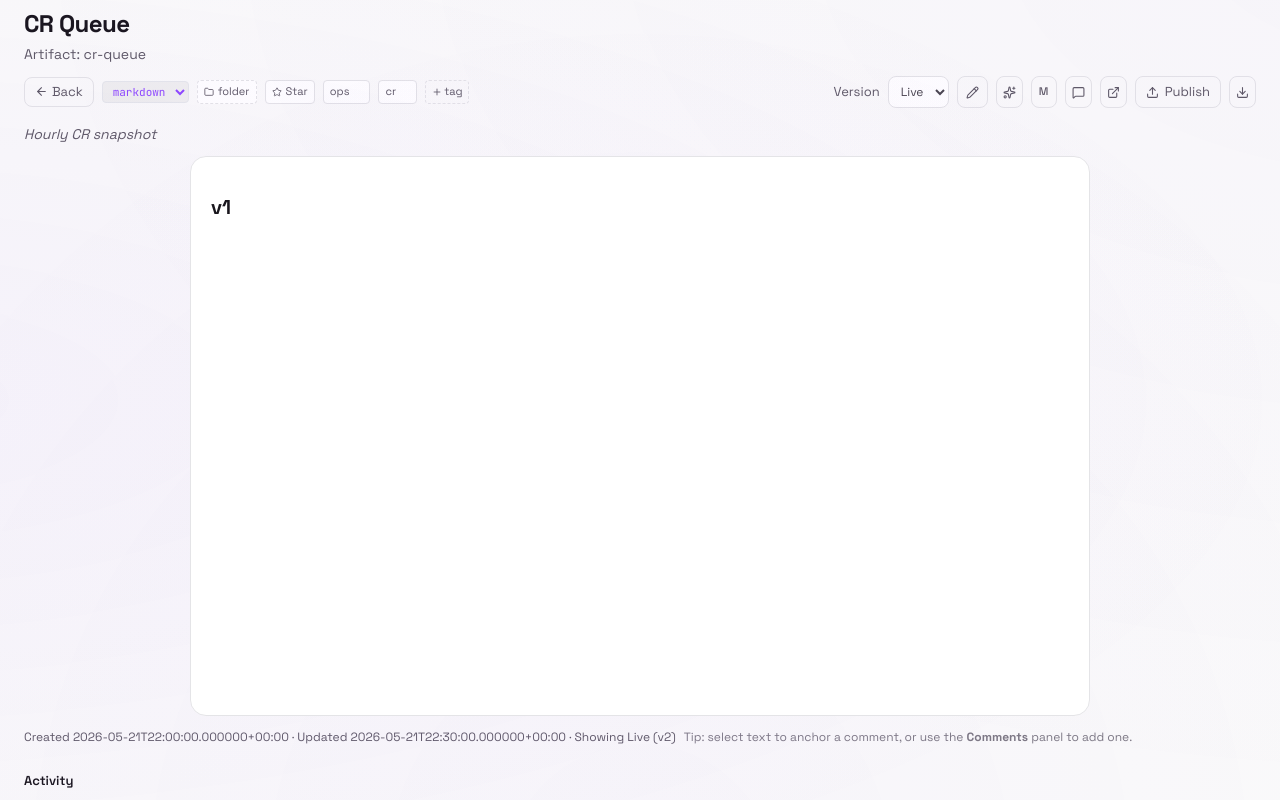
ArtifactDetailPage › Cancel button confirms before discarding while dirty
Expected: the button "CR Queue" is shown, [24,8,151,40]
Click the button titled "Edit content": [972, 92] box [957,76,988,108]
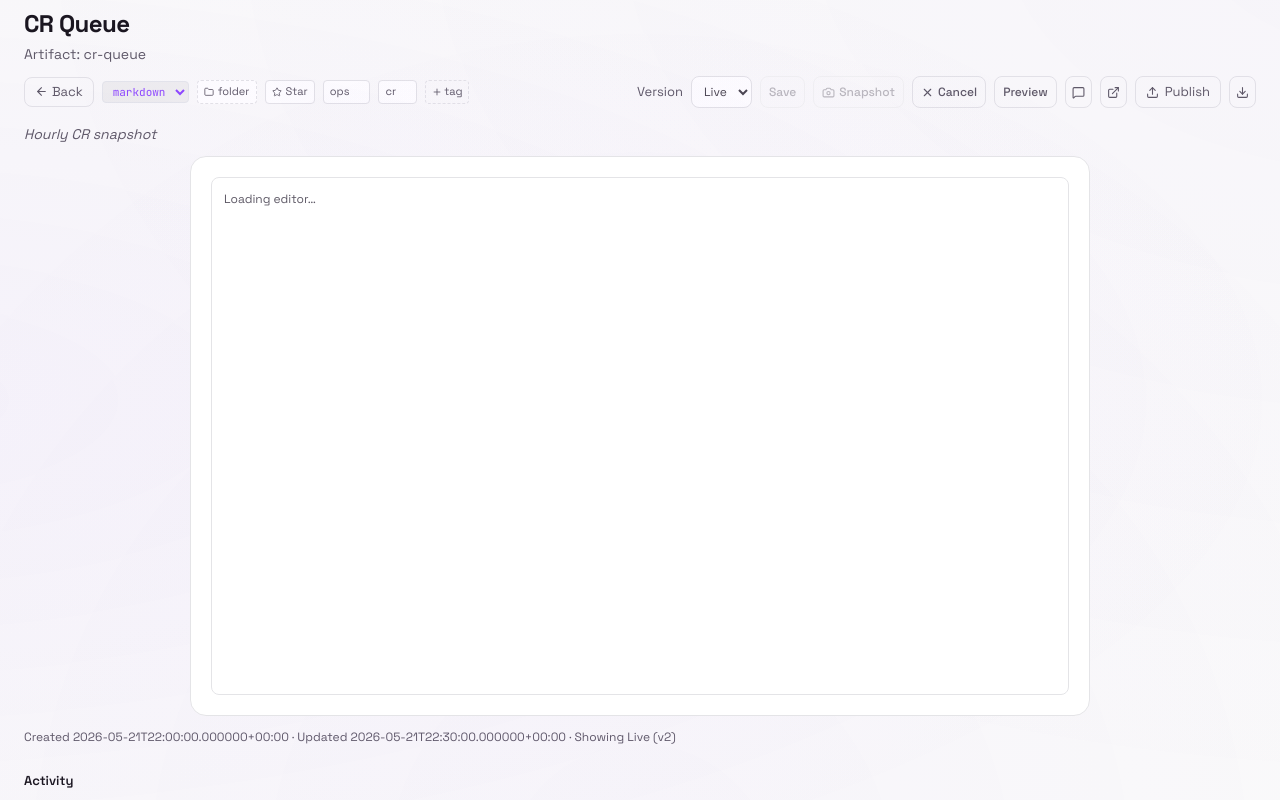
# Click Cancel — without dirty there's no confirm.
Click the button titled "Cancel": [949, 92] box [912,76,986,108]
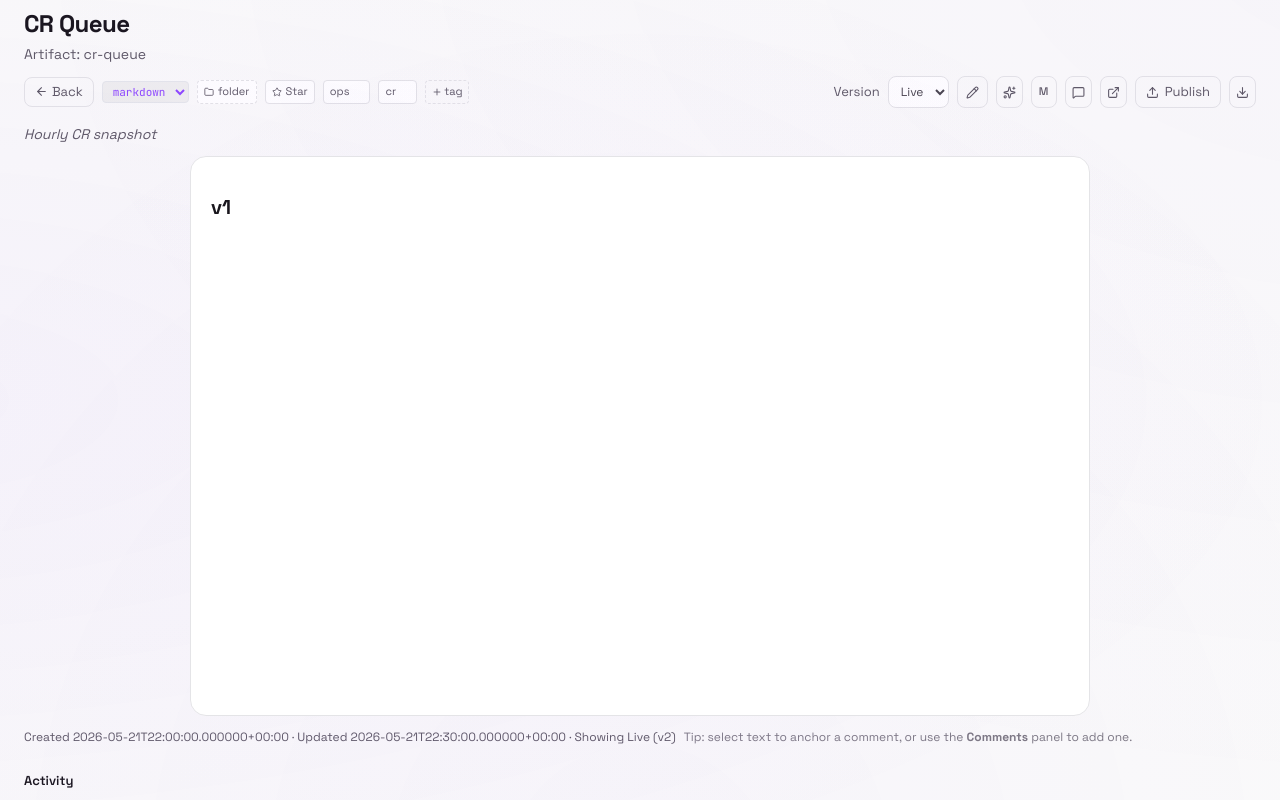
Result: the button titled "Edit content" is shown at [957,76,988,108]
